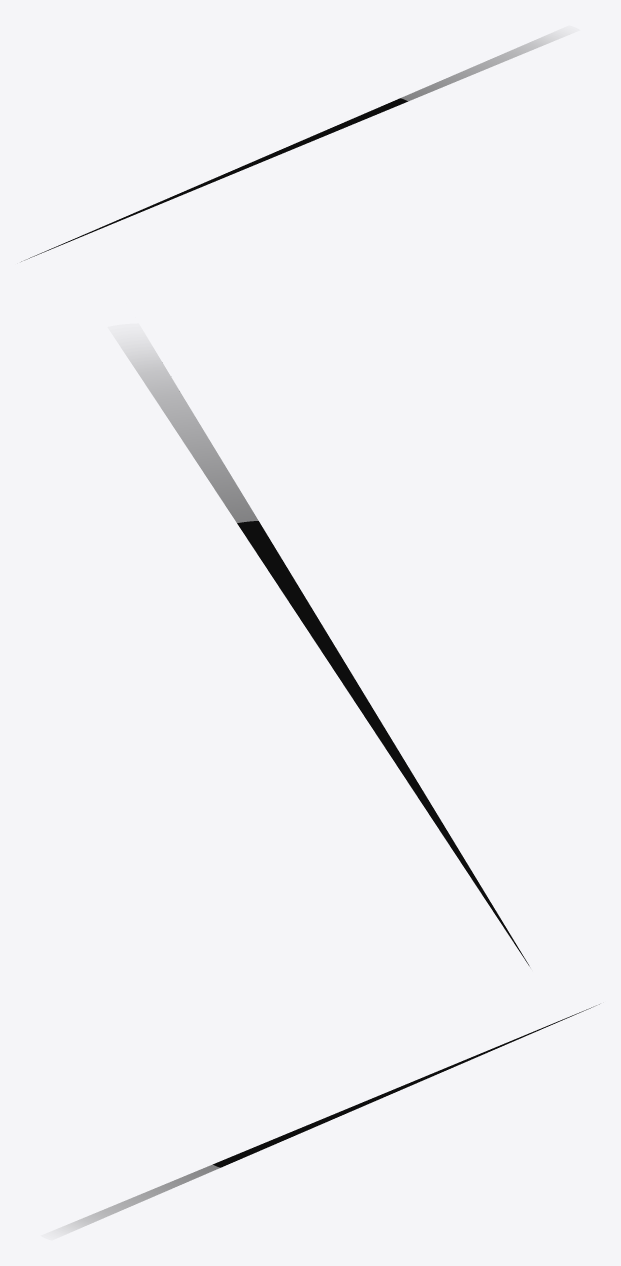
File: bbl_RangeBoard_B__bbl_RangeBoard_B.glb
3 views of the same model, one above another, from view 1: azimuth 90°, elevation 25°; view 2: azimuth 150°, elevation 25°; view 3: azimuth 270°, elevation 25° (orthographic). The views are drawn at different scales.
Visible parts, largest first — view 1: polygon0, polygon1; view 2: polygon0, polygon1; view 3: polygon0, polygon1.
Boxes of the visible parts, box(x1,y1,x2,y2) form: polygon0: box(21, 98, 407, 261); polygon1: box(401, 38, 549, 101); polygon0: box(237, 521, 529, 965); polygon1: box(130, 357, 529, 966); polygon0: box(213, 1004, 599, 1167); polygon1: box(71, 1164, 219, 1227).
Bounding box in the file's own units: 707 × 0.0186 × 707.
2 materials, 2 textured.
